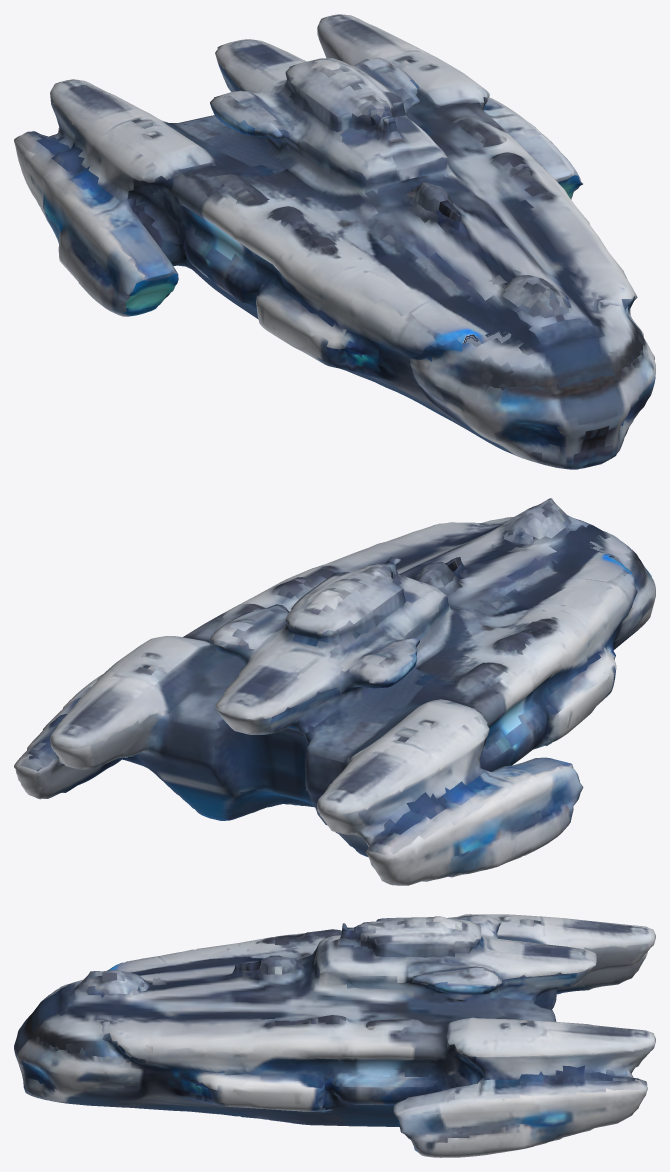
The model's file is alliance_battleship_lod1.glb.
3 renders of one model, top to bottom at view 1: azimuth 30°, elevation 25°; view 2: azimuth 150°, elevation 25°; view 3: azimuth 270°, elevation 25°, orthographic. The views are drawn at different scales.
Visible parts, largest first — view 1: model; view 2: model; view 3: model.
Part boxes in pixels (x1,y1,x2,y2): model: (14, 14, 655, 469); model: (14, 498, 655, 885); model: (14, 914, 655, 1157).
Bounding box in the file's own units: 1.24 × 0.5907 × 1.88.
Materials: 1 (1 with a texture image).
